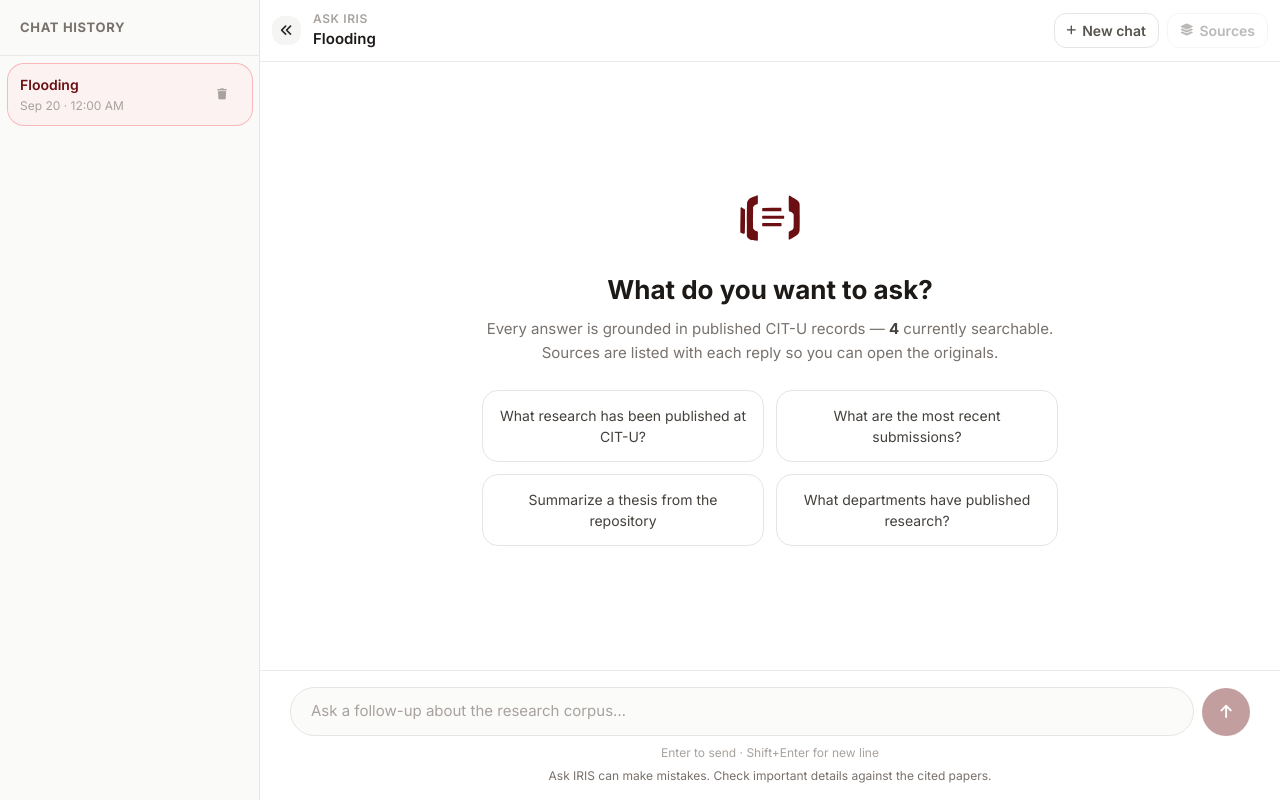
Test: persisted conversations › announces a throttled question with the server's wait
This screenshot has width=1280, height=800.
Type "What predicts flooding?" into the text box labelled "Ask a follow-up about the research corpus…".
click(742, 711); type("What predicts flooding?")  # box [290,687,1194,736]
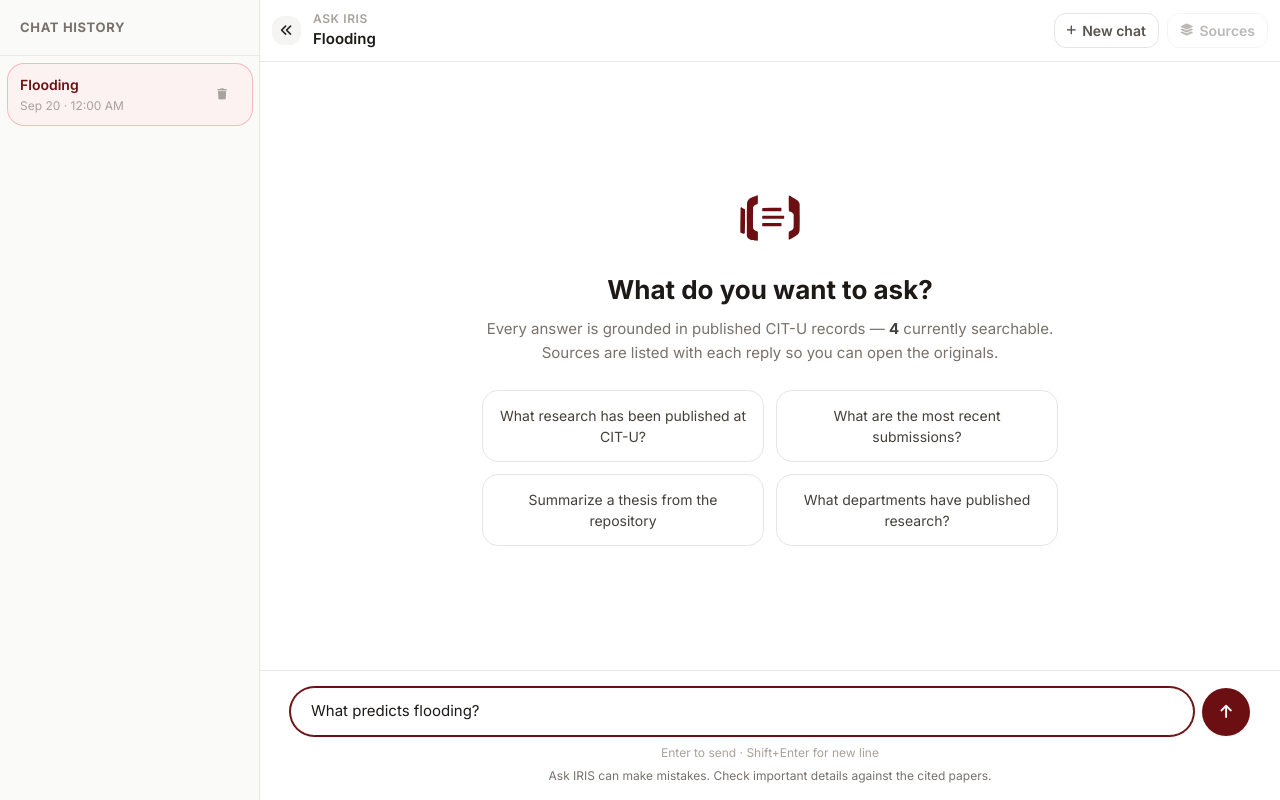
Click the button named "send message".
click(1226, 712)  # box [1202,688,1250,736]
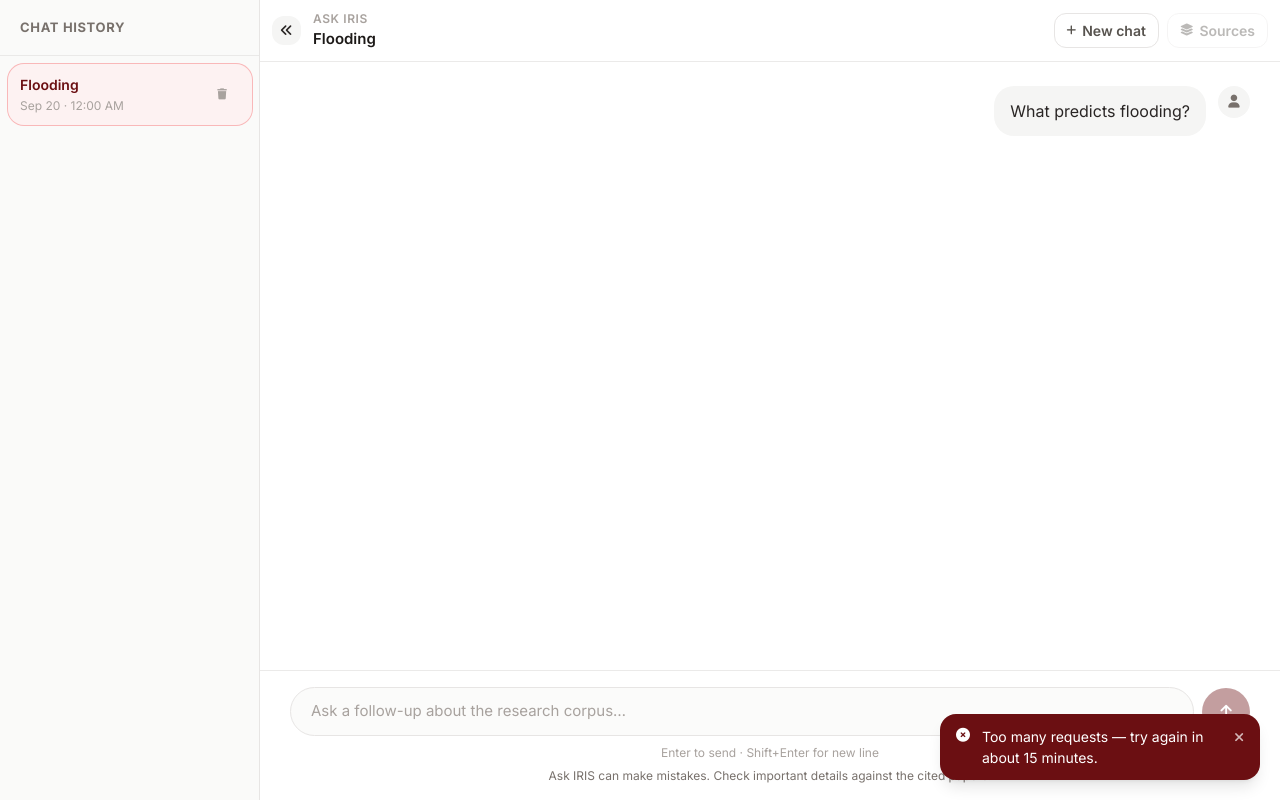
expect the message reads "Too many requests — try again in about 15 minutes.": met, box [982,728,1203,766]
